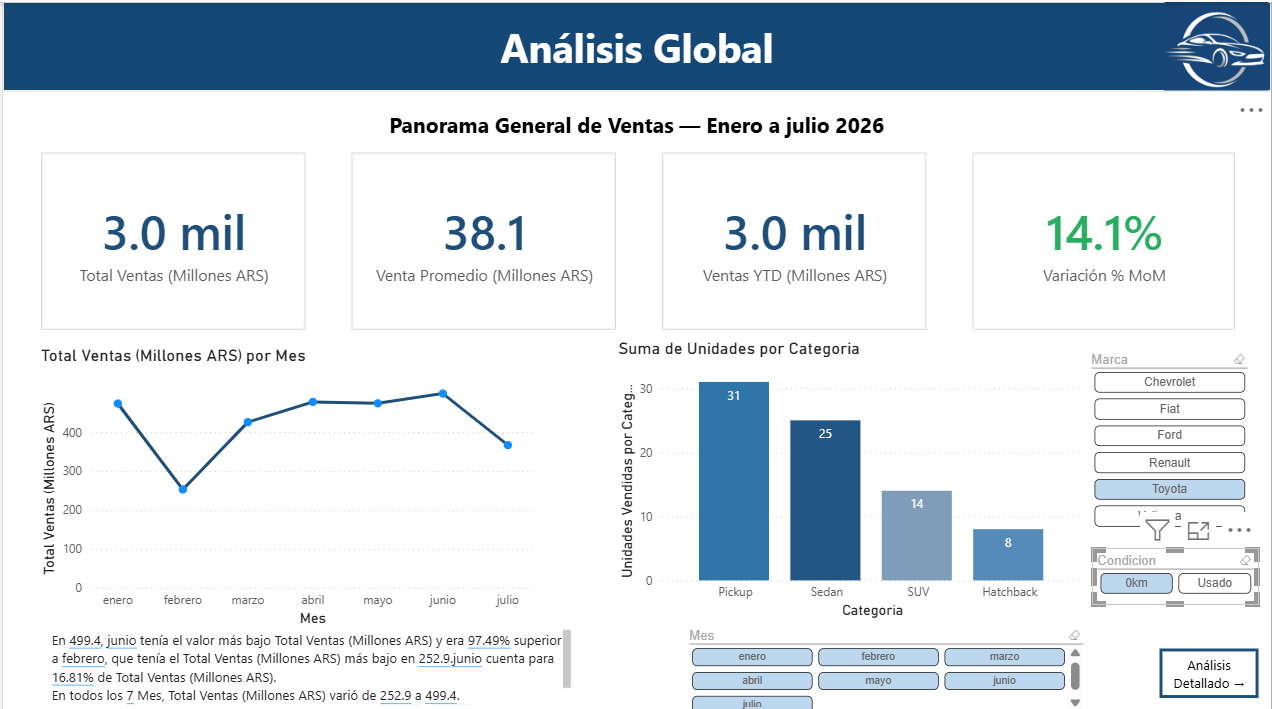

The page's visual inventory and layout, read from the dashboard file:
{"tool":"powerbi","page":{"name":"Análisis Global","canvas":[1280,720],"ordinal":1},"visuals":[{"type":"actionButton","box":[1168,652,100,50],"z":0},{"type":"cardVisual","fields":{"Data":["Medidas.Total Ventas"]},"box":[21.2,134.8,301.3,213.5],"z":1000},{"type":"cardVisual","fields":{"Data":["Medidas.Venta Promedio"]},"box":[334.6,134.8,301.3,213.5],"z":2000},{"type":"cardVisual","fields":{"Data":["Medidas.Ventas YTD"]},"box":[648.1,134.8,301.3,213.5],"z":3000},{"type":"cardVisual","fields":{"Data":["Medidas.Variación % MoM"]},"box":[961.5,134.8,299.8,213.5],"z":4000},{"type":"shape","box":[0,0,1280,90],"z":5000},{"type":"shape","box":[0,90,1280,68],"z":6000},{"type":"lineChart","fields":{"Category":["Calendario.Mes"],"Y":["Medidas.Total Ventas (Millones ARS)"]},"box":[33.3,346.8,507.3,287.7],"z":7000},{"type":"clusteredColumnChart","fields":{"Category":["Autos.Categoria"],"Y":["Sum(Ventas.Unidades)"]},"box":[616.3,339.2,478.5,287.7],"z":8000},{"type":"image","box":[1171,0,109,89.3],"z":9000},{"type":"textbox","box":[43.9,628.4,534.5,90.9],"z":10000},{"type":"ChicletSlicer1448559807354","fields":{"Category":["Calendario.Mes"]},"box":[687.4,626.9,407.3,92.4],"z":12001},{"type":"ChicletSlicer1448559807354","fields":{"Category":["Autos.Marca"]},"box":[1093.3,348.3,168.1,192.3],"z":12002},{"type":"ChicletSlicer1448559807354","fields":{"Category":["Autos.Condicion"]},"box":[1099.3,551.2,168.1,57.5],"z":12003}]}

Visuals, with their boxes in screenshot pixels (x1, y1, x2, y2), scaled from the page's 1280x720 canvas onto the 1272x709 screenshot:
actionButton: [left=1161, top=642, right=1260, bottom=691]
cardVisual - Medidas.Total Ventas: [left=21, top=133, right=320, bottom=343]
cardVisual - Medidas.Venta Promedio: [left=333, top=133, right=632, bottom=343]
cardVisual - Medidas.Ventas YTD: [left=644, top=133, right=943, bottom=343]
cardVisual - Medidas.Variación % MoM: [left=955, top=133, right=1253, bottom=343]
shape: [left=0, top=0, right=1271, bottom=89]
shape: [left=0, top=89, right=1271, bottom=156]
lineChart - Calendario.Mes x Medidas.Total Ventas (Millones ARS): [left=33, top=342, right=537, bottom=625]
clusteredColumnChart - Autos.Categoria x Sum(Ventas.Unidades): [left=612, top=334, right=1088, bottom=617]
image: [left=1164, top=0, right=1271, bottom=88]
textbox: [left=44, top=619, right=575, bottom=708]
ChicletSlicer1448559807354 - Calendario.Mes: [left=683, top=617, right=1088, bottom=708]
ChicletSlicer1448559807354 - Autos.Marca: [left=1086, top=343, right=1254, bottom=532]
ChicletSlicer1448559807354 - Autos.Condicion: [left=1092, top=543, right=1259, bottom=599]
